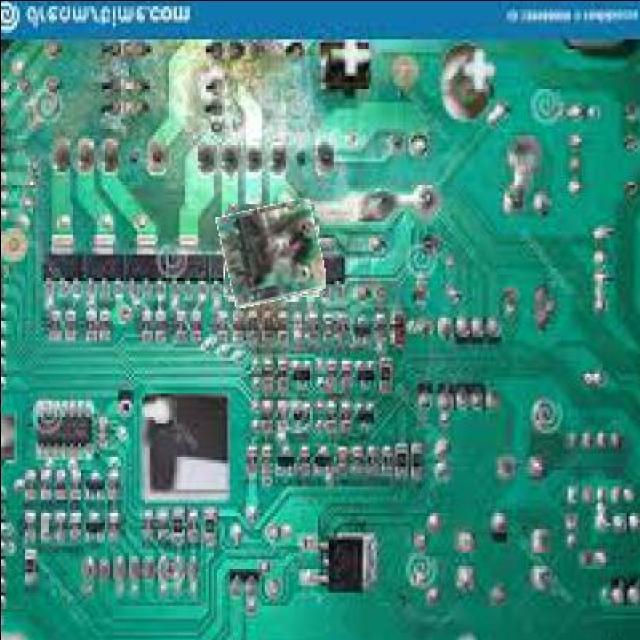Burn: (220, 200, 322, 302)
